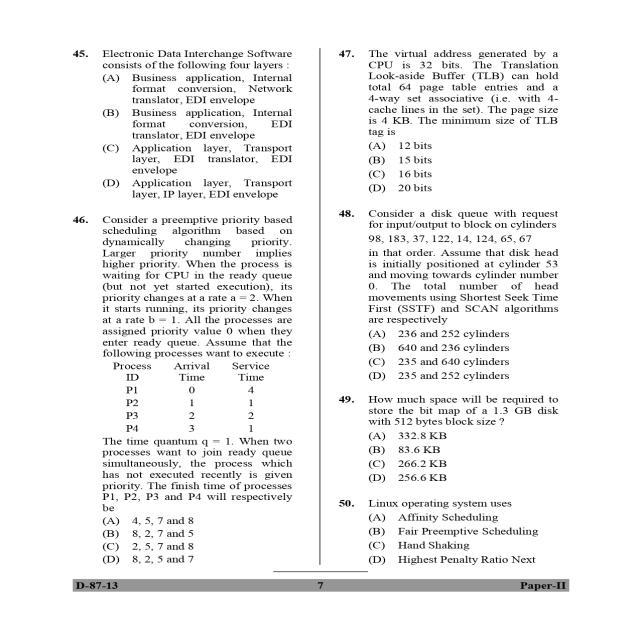Answer_Block: (68, 70, 304, 204), (334, 326, 568, 384), (334, 140, 568, 196), (66, 512, 304, 566), (334, 512, 566, 567), (334, 431, 566, 484)
Question_Answer_Block: (66, 210, 304, 566), (334, 205, 568, 385), (68, 47, 304, 204), (334, 46, 568, 196), (334, 390, 566, 484), (334, 492, 566, 567)
Question_Block: (66, 210, 304, 513), (334, 205, 568, 324), (334, 46, 568, 138), (334, 390, 566, 428), (68, 47, 304, 70), (334, 492, 566, 511)
Question_Paper_Area: (68, 47, 304, 566), (336, 45, 568, 568)
